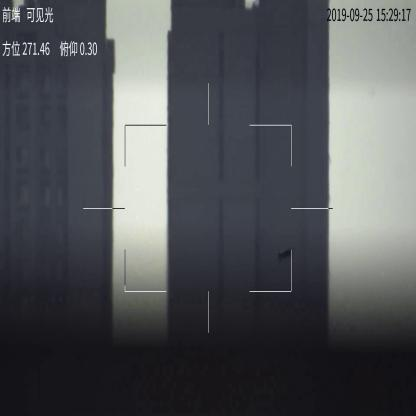uav: (277, 246, 292, 262)
